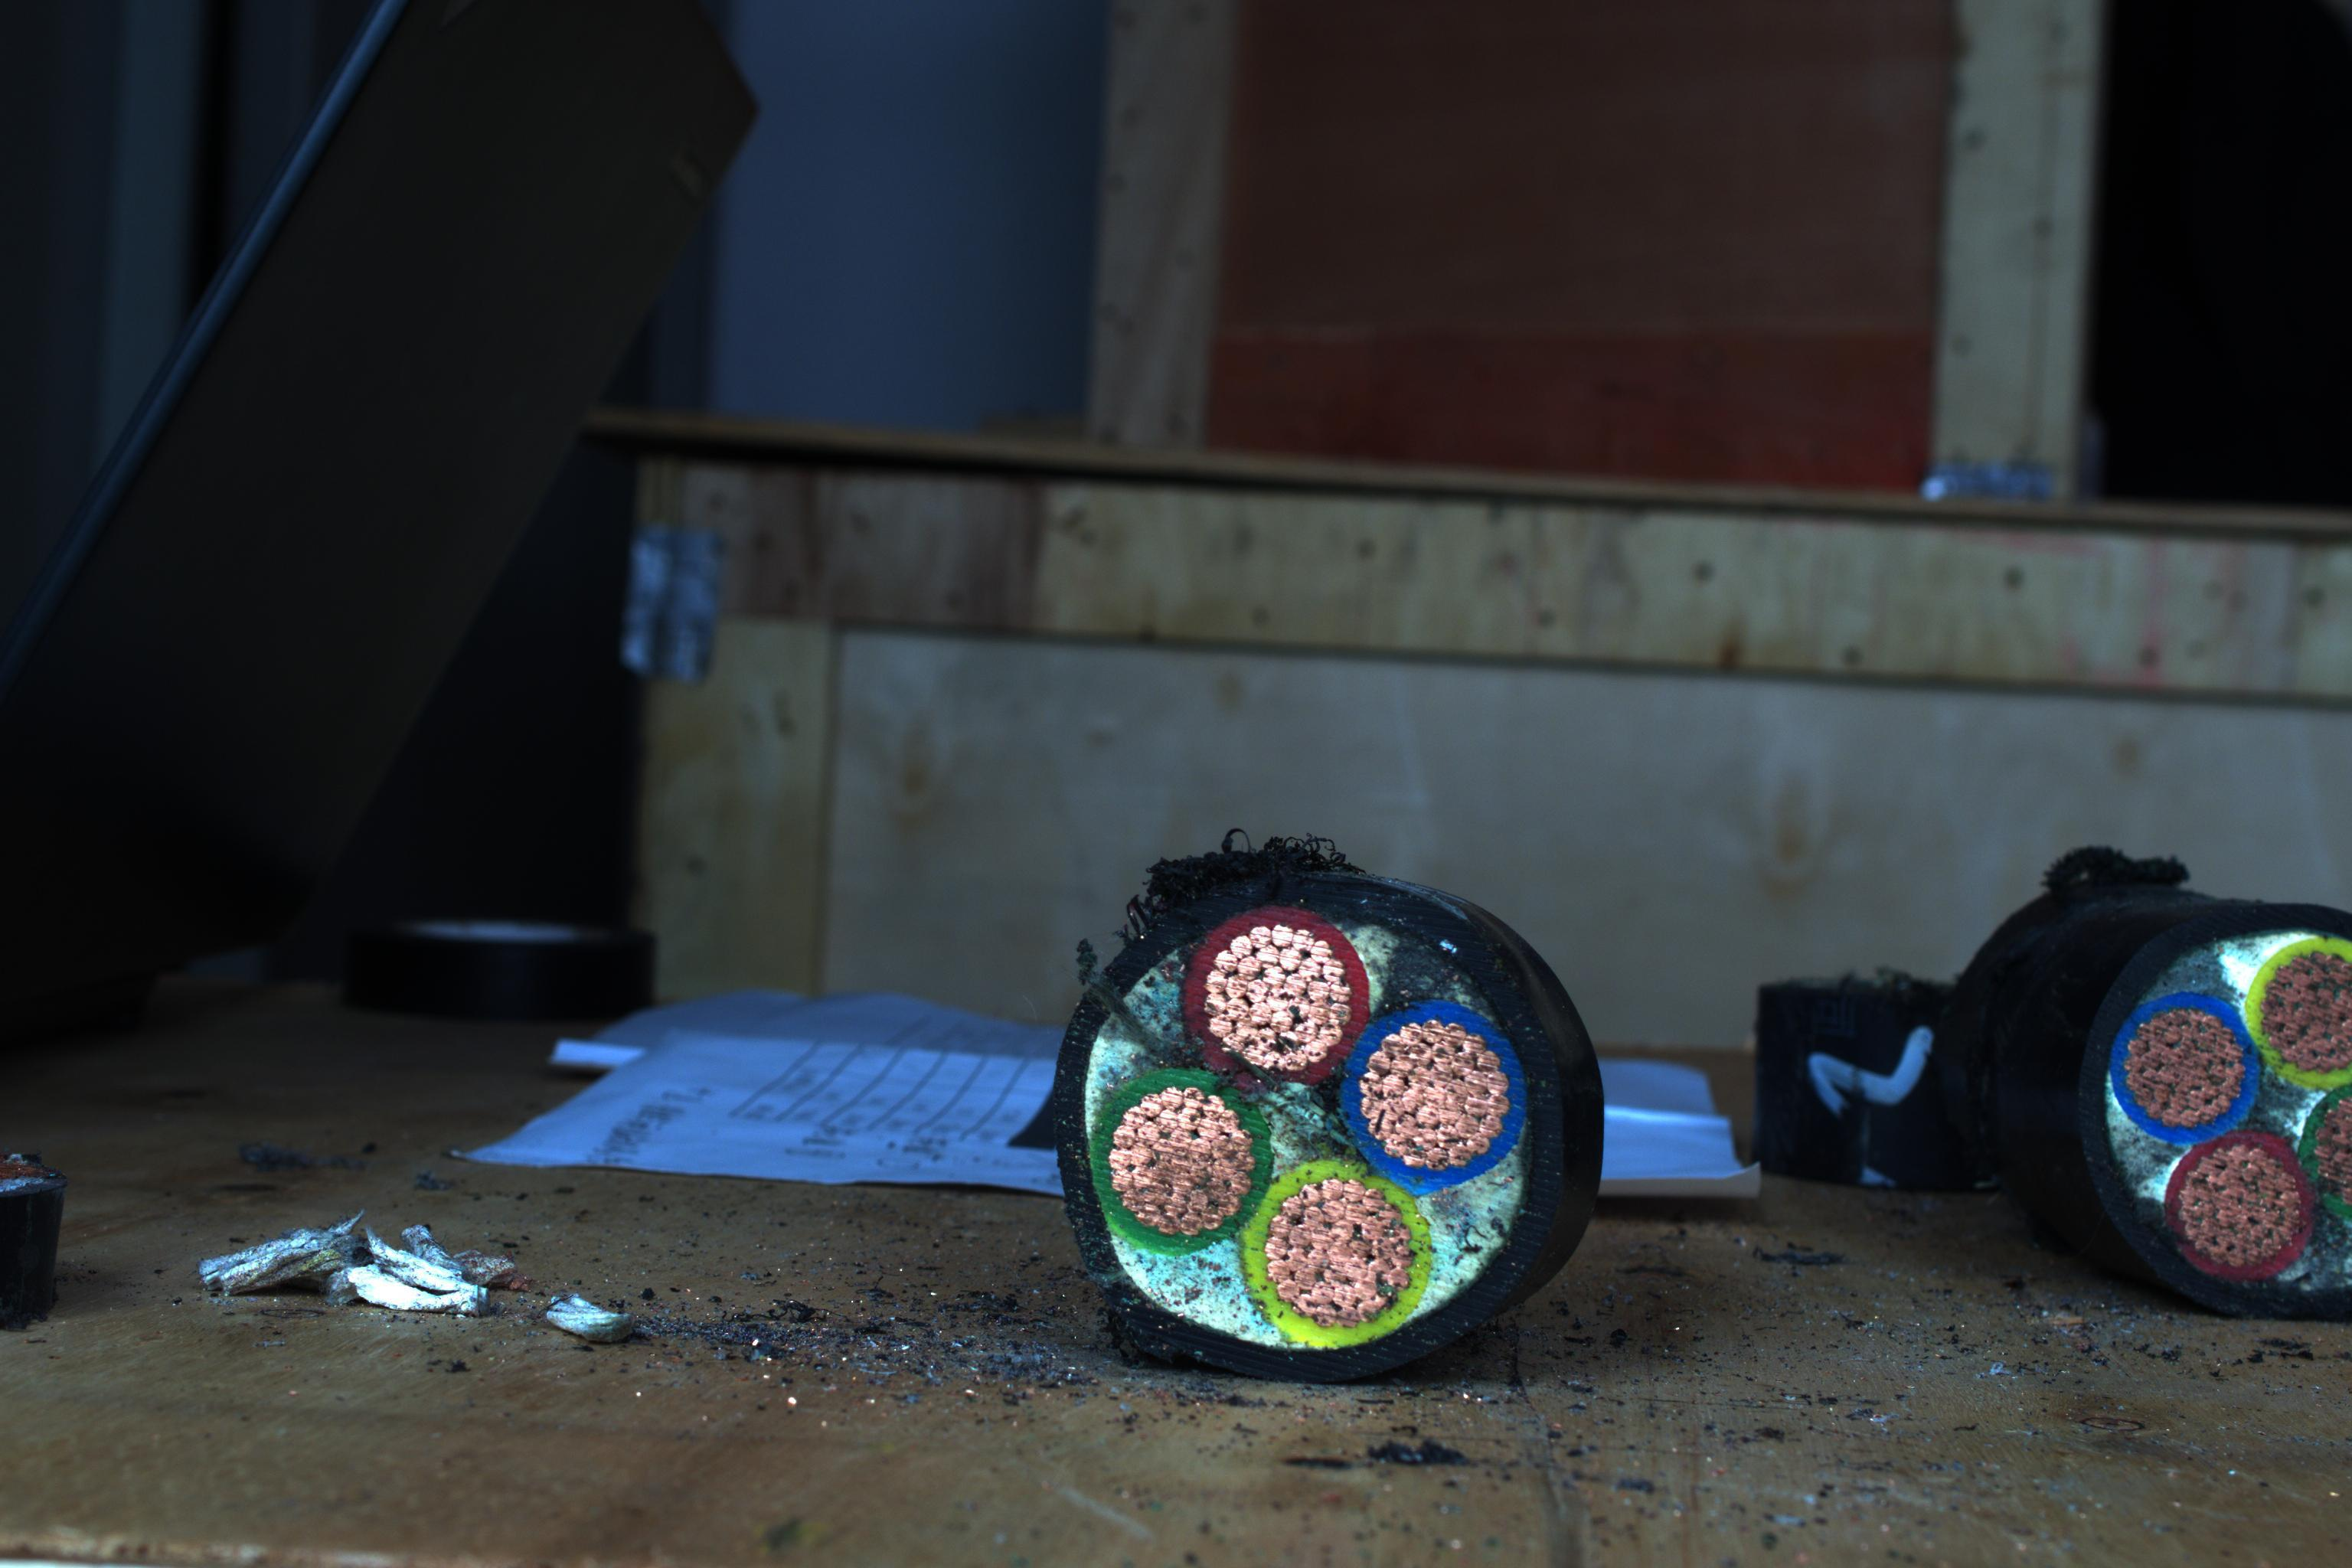YJV_0.6_1kV_4x185: (1048, 880, 1542, 1347)
